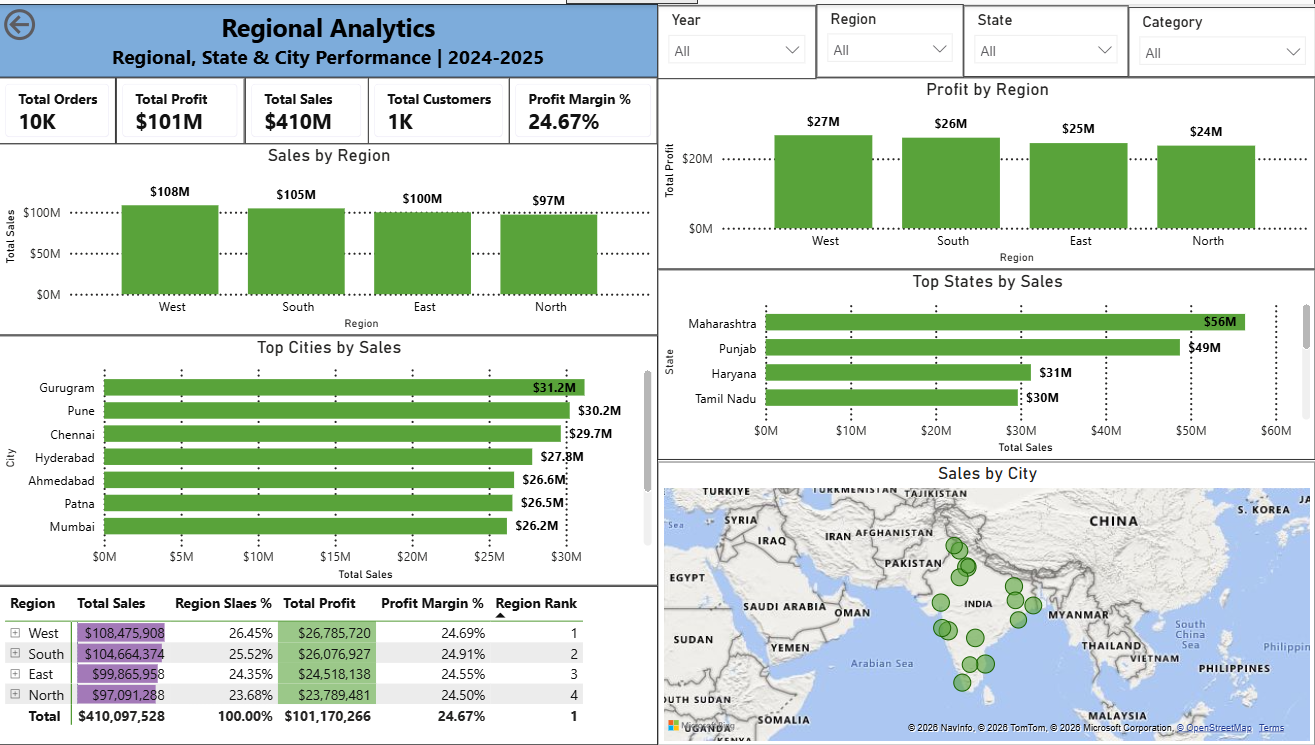

The page's visual inventory and layout, read from the dashboard file:
{"tool":"powerbi","page":{"name":"Regional Analytics","canvas":[1280,720],"ordinal":4},"visuals":[{"type":"textbox","box":[0,0,639.6,71.2],"z":0},{"type":"cardVisual","fields":{"Data":["Orders.Total Sales"]},"box":[238,71.2,119.8,64.8],"z":1000},{"type":"cardVisual","fields":{"Data":["Orders.Total Profit"]},"box":[113.3,71.2,124.7,64.8],"z":2000},{"type":"cardVisual","fields":{"Data":["Orders.Total Orders"]},"box":[0,71.2,113.3,64.8],"z":3000},{"type":"cardVisual","fields":{"Data":["Orders.Total Customers"]},"box":[357.8,71.2,137.6,64.8],"z":4000},{"type":"cardVisual","fields":{"Data":["Orders.Profit Margin %"]},"box":[495.5,71.2,144.1,64.8],"z":5000},{"type":"clusteredColumnChart","title":"Sales by Region","fields":{"Y":["Orders.Total Sales"],"Category":["Customers.Region"]},"box":[0,136,639.6,186.2],"z":6000},{"type":"clusteredColumnChart","title":"Profit by Region","fields":{"Category":["Customers.Region"],"Y":["Orders.Total Profit"]},"box":[639.6,71.2,639.6,186.2],"z":7000},{"type":"barChart","title":"Top States by Sales","fields":{"Y":["Orders.Total Sales"],"Category":["Customers.State"]},"box":[639.6,257.5,639.6,184.6],"z":8000},{"type":"barChart","title":"Top Cities by Sales","fields":{"Y":["Orders.Total Sales"],"Category":["Customers.City"]},"box":[0,322.2,639.6,242.9],"z":9000},{"type":"map","title":"Sales by City","fields":{"Size":["Orders.Total Sales"],"Category":["Customers.City"]},"box":[639.6,443.7,639.6,276.9],"z":10000},{"type":"slicer","fields":{"Values":["DimDate.Year"]},"box":[639.6,1.6,153.8,71.2],"z":11000},{"type":"slicer","fields":{"Values":["Customers.Region"]},"box":[793.4,0,142.5,71.2],"z":12000},{"type":"slicer","fields":{"Values":["Customers.State"]},"box":[935.9,1.6,160.3,69.6],"z":13000},{"type":"slicer","fields":{"Values":["Products.Category"]},"box":[1096.2,3.2,183,68],"z":14000},{"type":"pivotTable","fields":{"Rows":["Customers.Region","Customers.State","Customers.City"],"Values":["Orders.Total Sales","Customers.Region Slaes %","Orders.Total Profit","Orders.Profit Margin %","Customers.Region Rank"]},"box":[0,565.1,639.6,155.4],"z":15000},{"type":"actionButton","box":[0,0,100,40],"z":15001}]}

Visuals, with their boxes in screenshot pixels (x1, y1, x2, y2), scaled from the page's 1280x720 canvas onto the 1315x745 screenshot:
textbox: (x1=0, y1=0, x2=657, y2=74)
cardVisual - Orders.Total Sales: (x1=245, y1=74, x2=368, y2=141)
cardVisual - Orders.Total Profit: (x1=116, y1=74, x2=245, y2=141)
cardVisual - Orders.Total Orders: (x1=0, y1=74, x2=116, y2=141)
cardVisual - Orders.Total Customers: (x1=368, y1=74, x2=509, y2=141)
cardVisual - Orders.Profit Margin %: (x1=509, y1=74, x2=657, y2=141)
"Sales by Region" clusteredColumnChart: (x1=0, y1=141, x2=657, y2=333)
"Profit by Region" clusteredColumnChart: (x1=657, y1=74, x2=1314, y2=266)
"Top States by Sales" barChart: (x1=657, y1=266, x2=1314, y2=457)
"Top Cities by Sales" barChart: (x1=0, y1=333, x2=657, y2=585)
"Sales by City" map: (x1=657, y1=459, x2=1314, y2=744)
slicer - DimDate.Year: (x1=657, y1=2, x2=815, y2=75)
slicer - Customers.Region: (x1=815, y1=0, x2=961, y2=74)
slicer - Customers.State: (x1=961, y1=2, x2=1126, y2=74)
slicer - Products.Category: (x1=1126, y1=3, x2=1314, y2=74)
pivotTable - Customers.Region x Customers.State: (x1=0, y1=585, x2=657, y2=744)
actionButton: (x1=0, y1=0, x2=103, y2=41)
